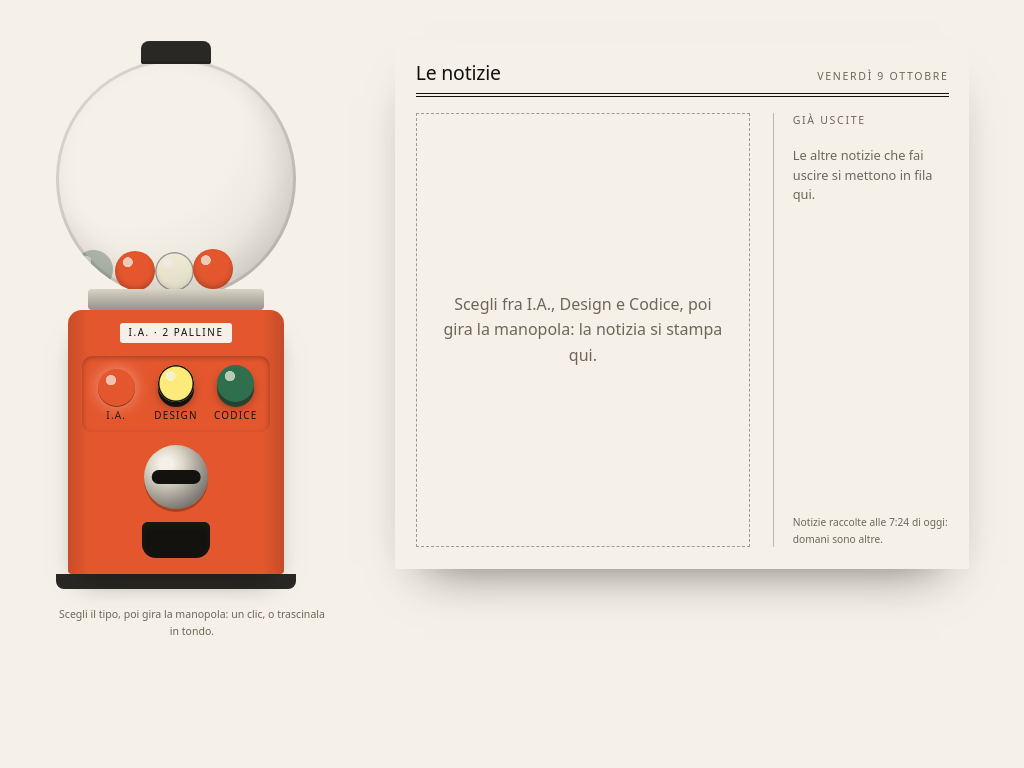
le notizie: il giro › «Gia' uscite» mette in fila i titoli, l'ultima in cima, e cliccarne uno la riporta sulla pagina
This screenshot has width=1024, height=768.
(page scrolled)
Check: the list reads "Le altre notizie che fai uscire si mettono in fila qui.", box [793,146,932,203]
Click the button named "Gira la manopola: esce una notizia".
click(176, 477)  # box [144,445,208,509]
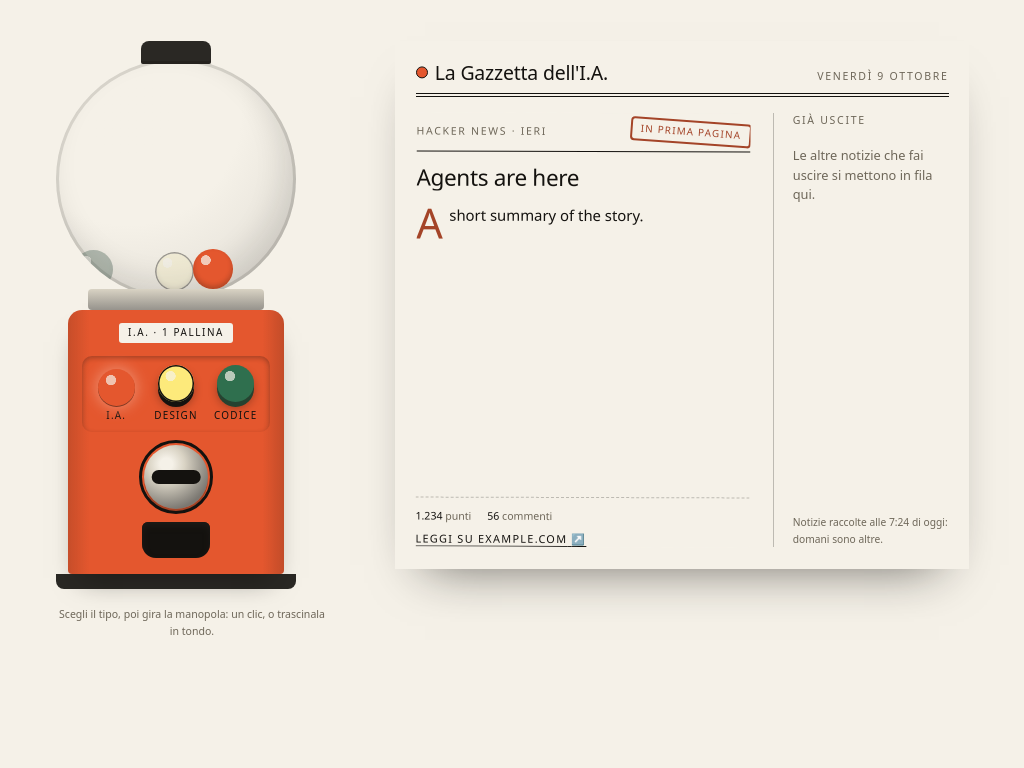
Check: the list reads "Le altre notizie che fai uscire si mettono in fila qui.", box [793,146,932,203]
Check: the element that starts with "Hacker News" is shown, box [415,112,751,548]
Click the button named "Gira la manopola: esce una notizia".
click(176, 477)  # box [144,445,208,509]
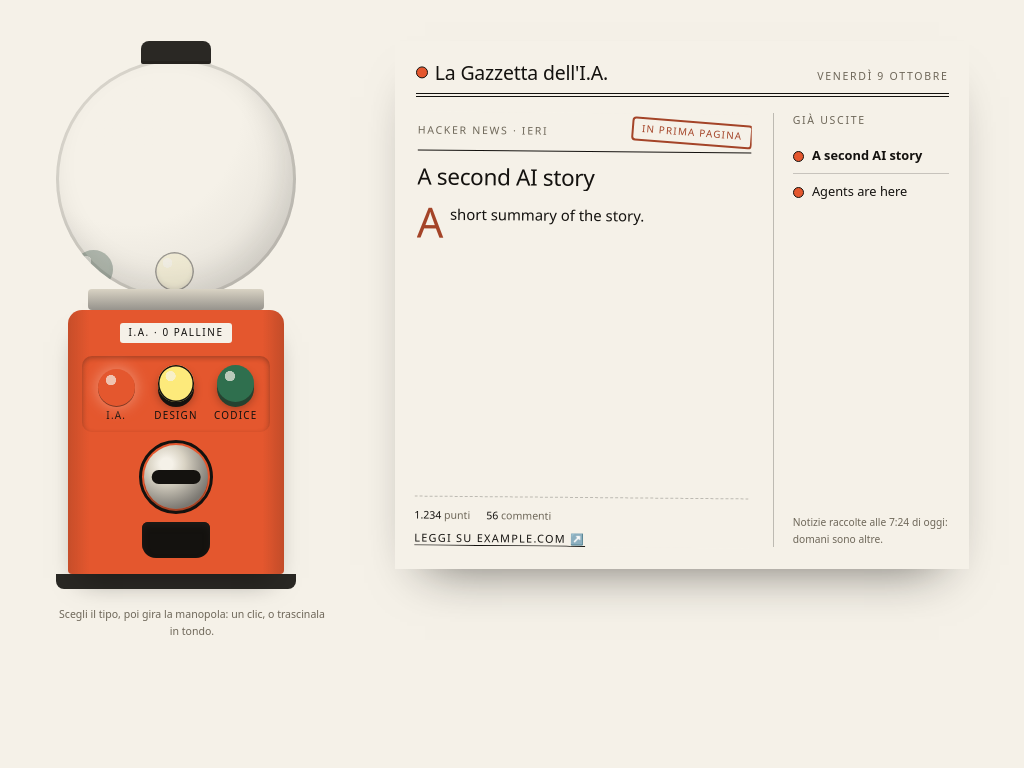
Check: the element that starts with "Hacker News" shows "A second AI story", box [417,161,594,193]
Check: the buttons read "A second AI story", "Agents are here", in this order
Click the button "Agents are here".
click(871, 192)  # box [793,174,948,209]
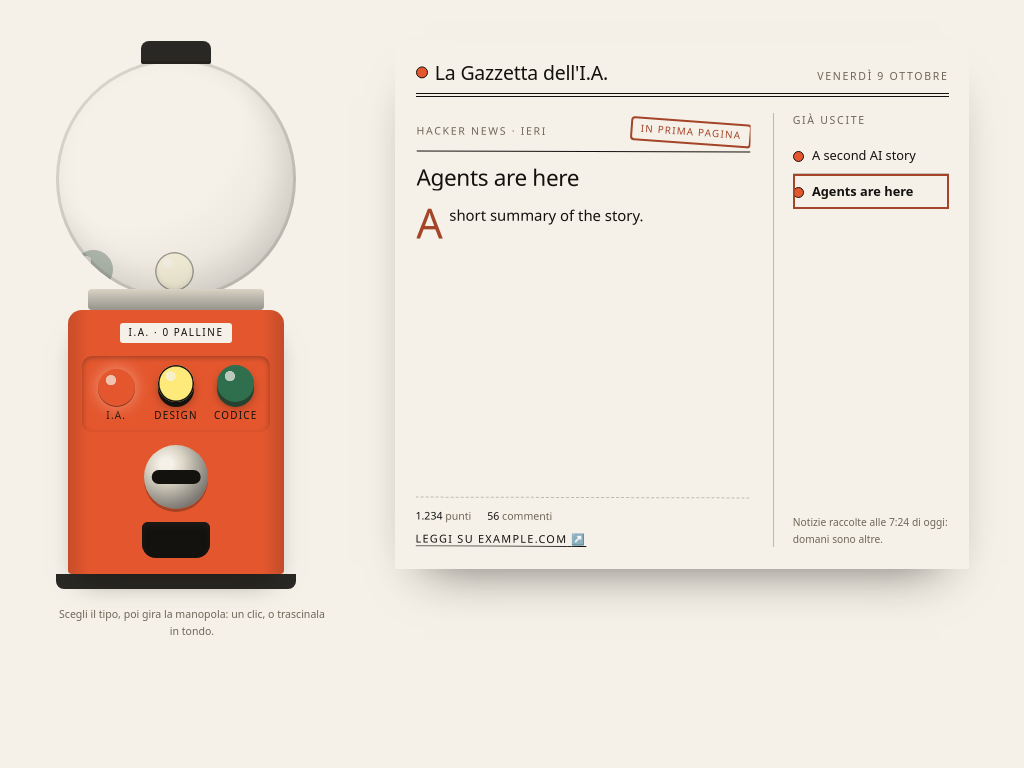
Check: the heading reads "Agents are here", box [416,162,579,193]
